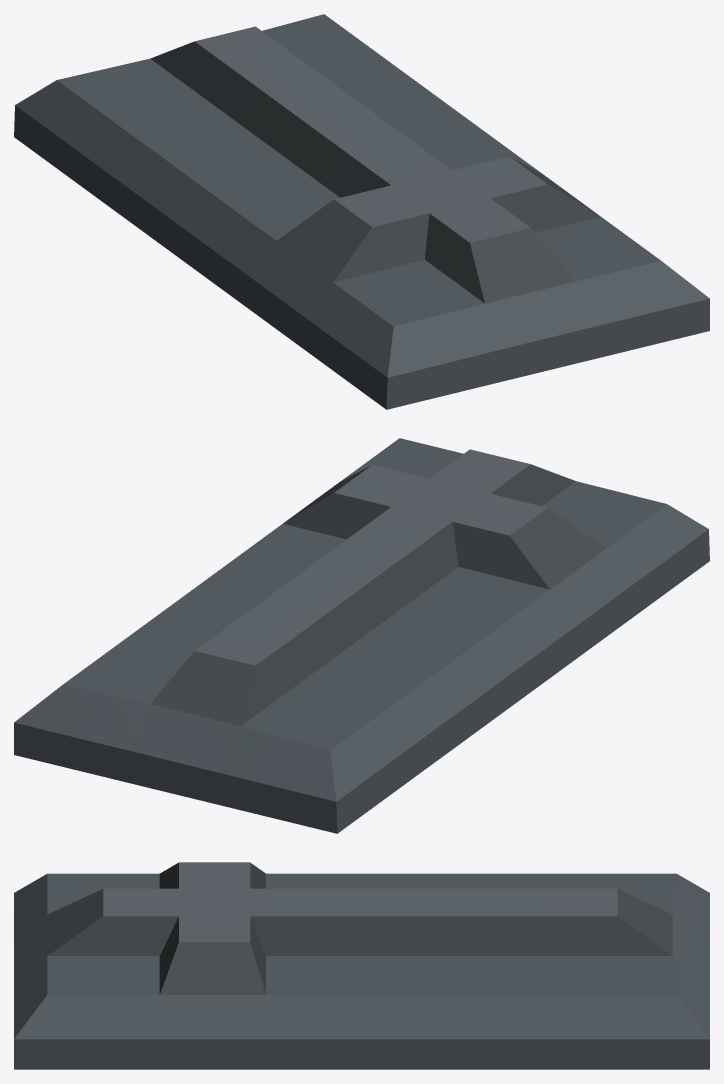
The model's file is GraveV2LidV1.obj.
3 renders of one model, top to bottom at view 1: azimuth 30°, elevation 25°; view 2: azimuth 150°, elevation 25°; view 3: azimuth 270°, elevation 25°, orthographic. The views are drawn at different scales.
Parts seen in each view (by area): view 1: GraveLid; view 2: GraveLid; view 3: GraveLid.
Boxes of the visible parts, <box> form: GraveLid: <box>14,14,709,409</box>; GraveLid: <box>14,438,709,833</box>; GraveLid: <box>14,862,709,1069</box>.
Size of the model in its own units: 4.52 by 1.34 by 9.03.
